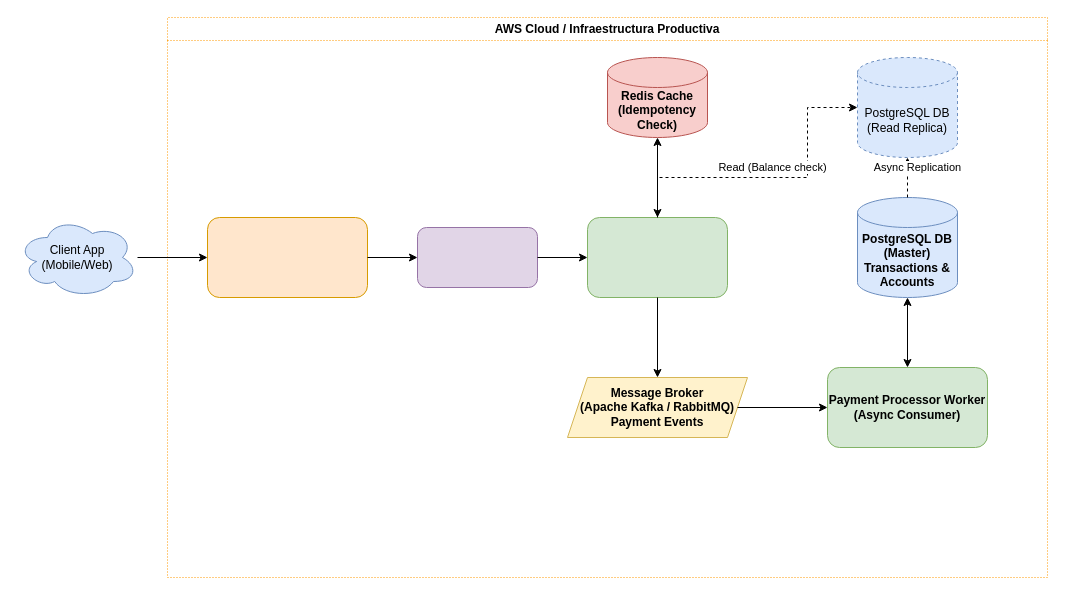
This 1065x595 diagram has some shape labels left out. The shapes that lost their labels are listed below. From the top down, each one's box as (x1, y1, x2, y2) in pixels, then its label:
(206, 216, 368, 298): Amazon API Gateway / WAF (Rate Limiting, DDoS Protection)
(416, 226, 538, 288): Application Load Balancer
(586, 216, 728, 298): Spring WebFlux API Payment Service (Ingress)
